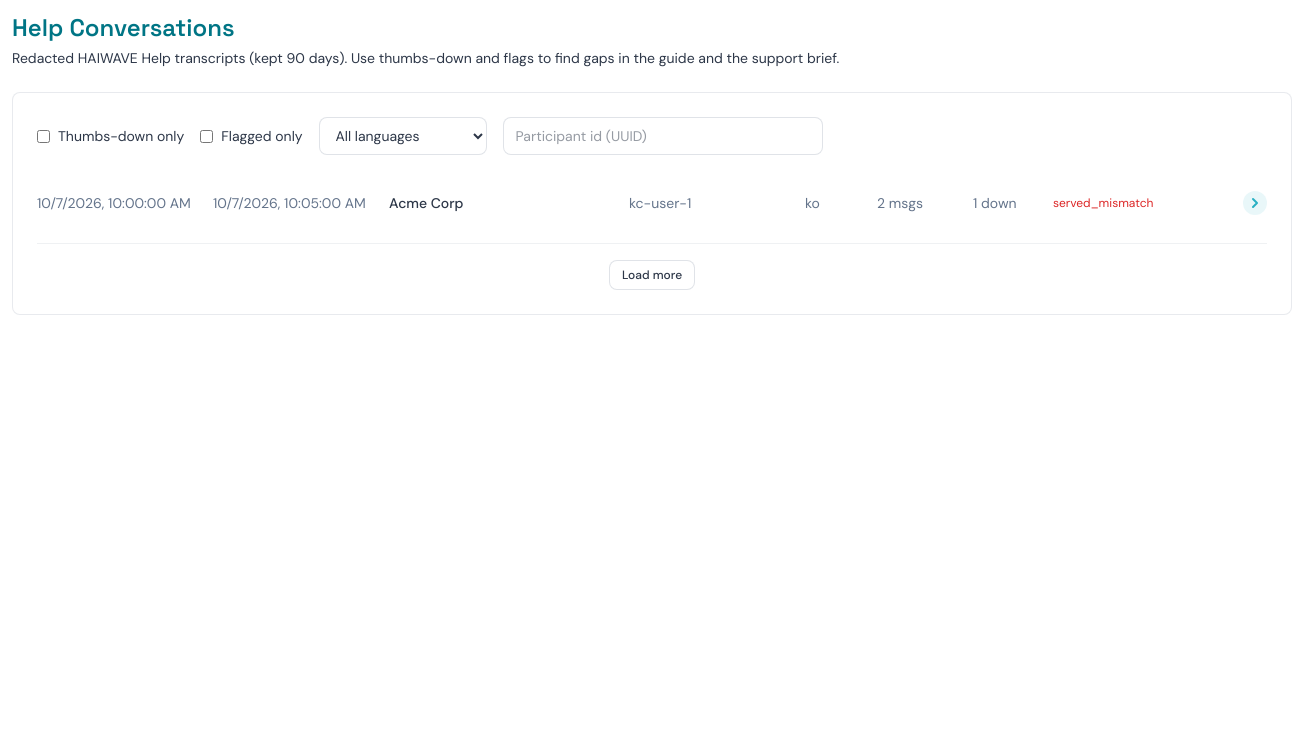
Test case: AdminHelpPage › expands a conversation into its redacted transcript with tokens, flags, feedback and pack
Click the button with aria-label "Conversation 0b8a5a52-58b6-4a8e-9a39-9a1d4c7f1f10". click: (652, 203)
box: [37, 179, 1267, 227]
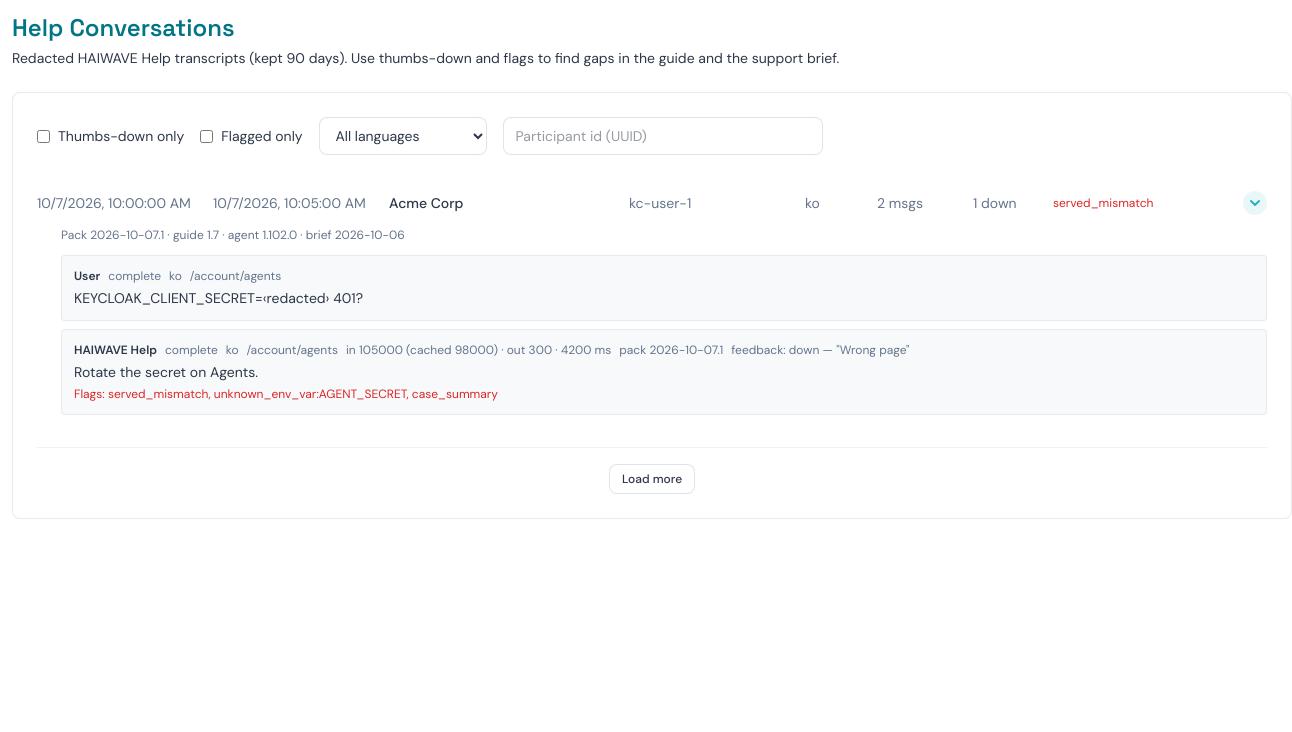
Check: the text "KEYCLOAK_CLIENT_SECRET=‹redacted› 401?" is shown, box [74, 289, 363, 307]
Check: the text "in 105000 (cached 98000) · out 300 · 4200 ms" is shown, box [346, 342, 611, 358]
Check: the text "Flags: served_mismatch, unknown_env_var:AGENT_SECRET, case_summary" is shown, box [74, 386, 498, 402]
